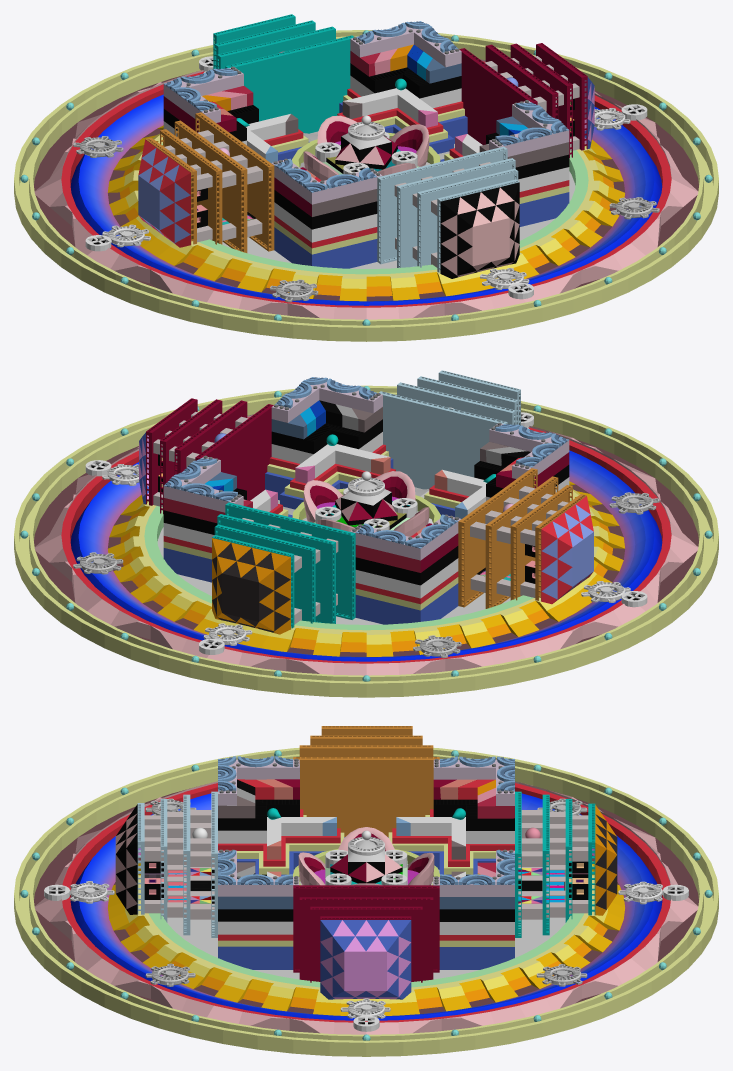
File: wheelofTime.fbx
3 renders of one model, top to bottom at view 1: azimuth 30°, elevation 25°; view 2: azimuth 150°, elevation 25°; view 3: azimuth 270°, elevation 25°, orthographic.
Visible parts, largest first — view 1: Sixty_neonYellow, fiftyseven_lightroseRing, twentyseven_turquiose3, thirtyseven_babyBlue, thirtytwo_bordeaux, fourtytwo_lightBrown, fiftytwo_blueRing, fifty_lightOrange2, twentyfour_lilac, seventeen_white4, fiftyone_blueRing, fiftyfive_redRing (+38 smaller); view 2: Sixty_neonYellow, fiftyseven_lightroseRing, thirtyseven_babyBlue, twentyseven_turquiose3, fourtytwo_lightBrown, thirtytwo_bordeaux, fiftytwo_blueRing, fifty_lightOrange2, twentyfour_lilac, seventeen_white4, fiftyone_blueRing, fiftyfive_redRing (+38 smaller); view 3: Sixty_neonYellow, fourtytwo_lightBrown, fiftyseven_lightroseRing, thirtytwo_bordeaux, fiftytwo_blueRing, fiftyfive_redRing, seventeen_white4, fifty_lightOrange2, twentyfour_lilac, nineteen_Black, thirtyeight_lightGrey, twentyeight_lightGrey7 (+36 smaller).
Part boxes in pixels (<box>): Sixty_neonYellow: <box>14,30,718,341</box>; fiftyseven_lightroseRing: <box>34,59,698,319</box>; twentyseven_turquiose3: <box>213,14,353,133</box>; thirtyseven_babyBlue: <box>377,146,519,273</box>; thirtytwo_bordeaux: <box>459,43,587,158</box>; fourtytwo_lightBrown: <box>145,112,274,252</box>; fiftytwo_blueRing: <box>70,94,662,305</box>; fifty_lightOrange2: <box>107,125,624,301</box>; twentyfour_lilac: <box>163,26,569,204</box>; seventeen_white4: <box>163,75,569,242</box>; fiftyone_blueRing: <box>87,102,645,291</box>; fiftyfive_redRing: <box>61,61,671,307</box>; Sixty_neonYellow: <box>14,385,718,697</box>; fiftyseven_lightroseRing: <box>34,414,698,675</box>; thirtyseven_babyBlue: <box>379,370,520,489</box>; twentyseven_turquiose3: <box>212,502,355,628</box>; fourtytwo_lightBrown: <box>458,468,586,608</box>; thirtytwo_bordeaux: <box>146,398,273,514</box>; fiftytwo_blueRing: <box>70,450,662,661</box>; fifty_lightOrange2: <box>108,481,624,656</box>; twentyfour_lilac: <box>163,382,569,560</box>; seventeen_white4: <box>163,432,569,598</box>; fiftyone_blueRing: <box>87,458,645,647</box>; fiftyfive_redRing: <box>61,417,671,663</box>; Sixty_neonYellow: <box>14,747,718,1056</box>; fourtytwo_lightBrown: <box>293,726,439,837</box>; fiftyseven_lightroseRing: <box>34,781,698,1034</box>; thirtytwo_bordeaux: <box>293,885,439,982</box>; fiftytwo_blueRing: <box>70,793,662,1020</box>; fiftyfive_redRing: <box>62,783,670,1022</box>; seventeen_white4: <box>218,805,514,934</box>; fifty_lightOrange2: <box>108,861,624,1015</box>; twentyfour_lilac: <box>218,759,514,896</box>; nineteen_Black: <box>218,799,514,921</box>; thirtyeight_lightGrey: <box>144,810,214,919</box>; twentyeight_lightGrey7: <box>518,810,588,919</box>.
Size of the model in its own units: 52.24 by 7.25 by 52.24.
